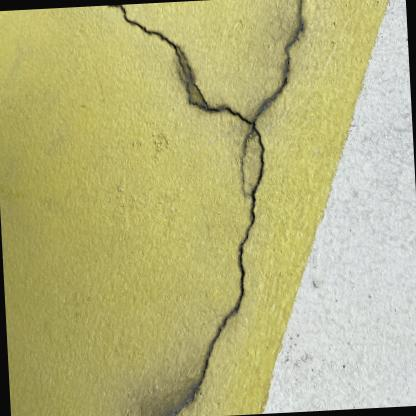crack: (107, 0, 305, 416)
